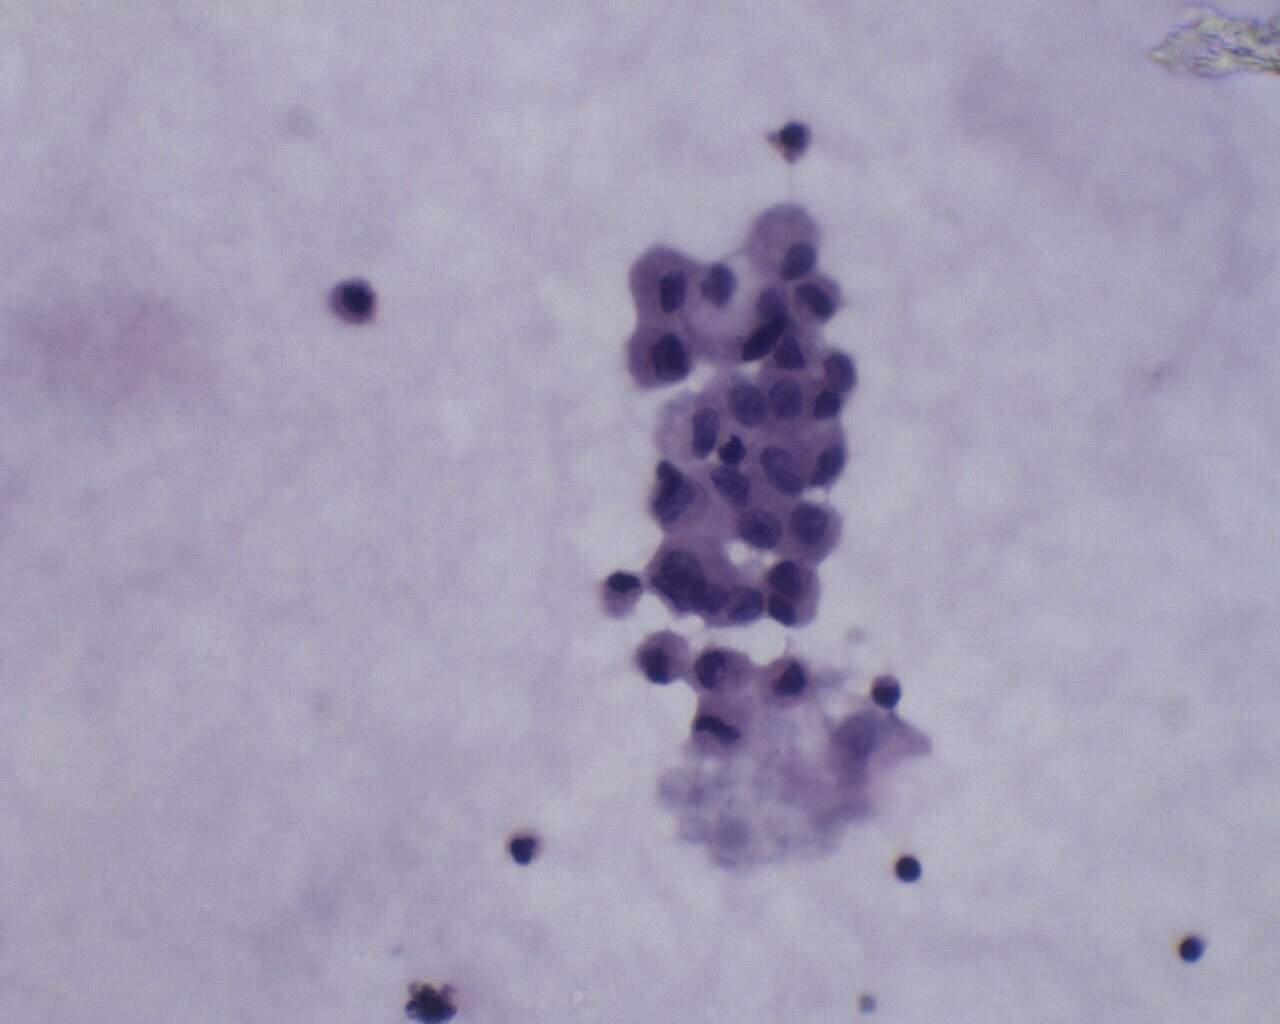ab: (622, 321, 698, 387), (649, 470, 714, 535), (783, 499, 848, 563)
histo: (748, 199, 827, 277)
lymph: (1176, 933, 1215, 970), (892, 850, 926, 890)
meso: (627, 245, 695, 324), (696, 643, 755, 700)
